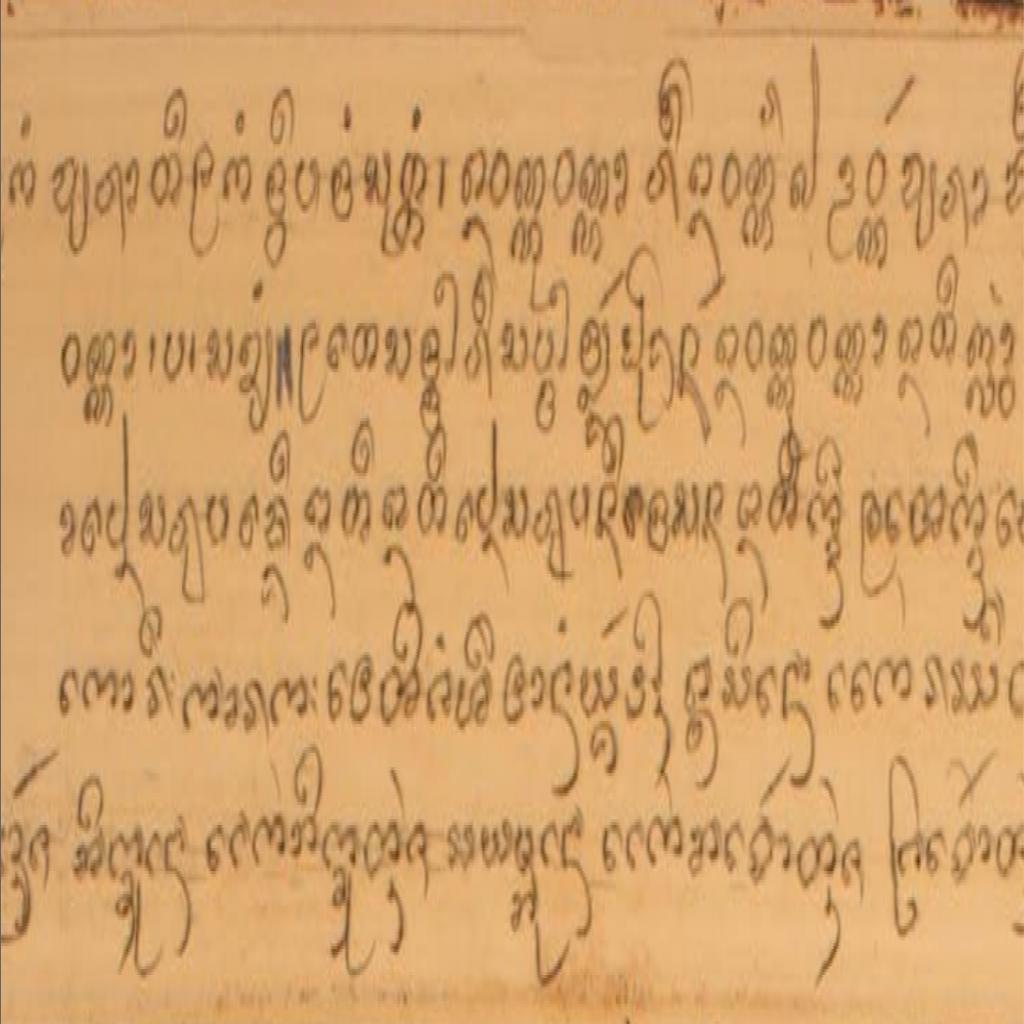LN017: (514, 149, 548, 219)
